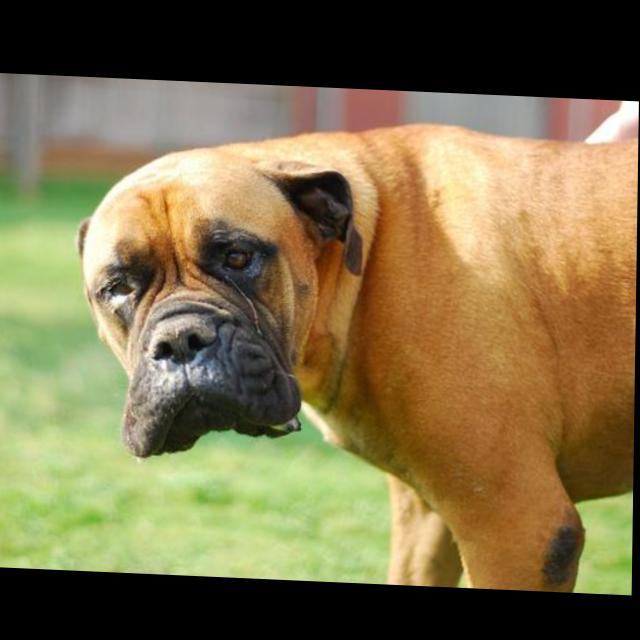bullmastiff: (73, 77, 640, 590)
